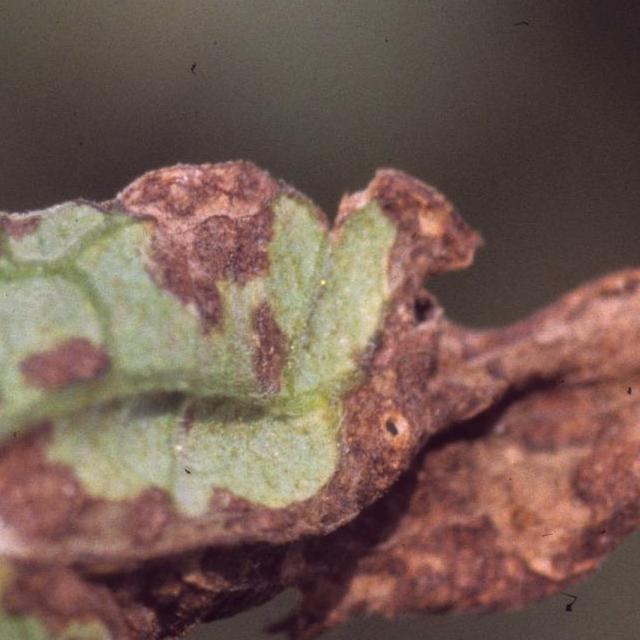Tomato leaf bacterial spot: (0, 117, 640, 640)
